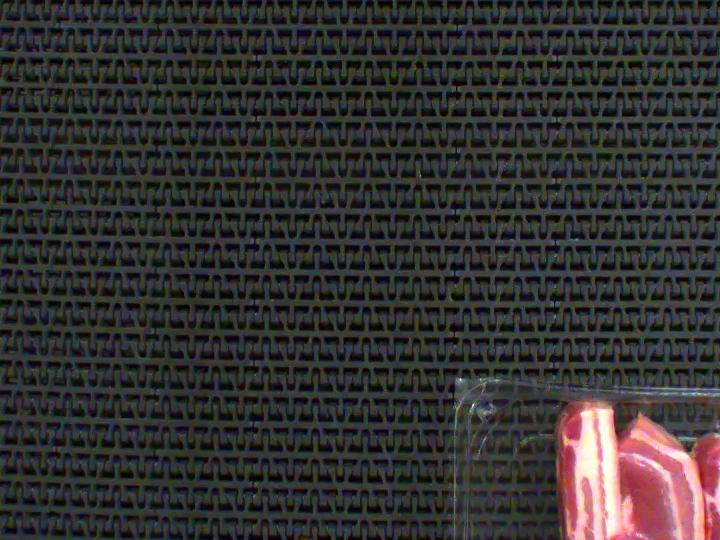packaging-error: (704, 413, 720, 435)
